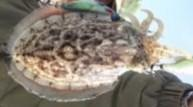Cephalopod: (4, 0, 192, 103)
